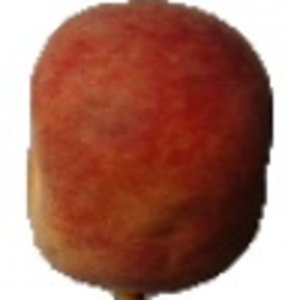pêssego: (25, 1, 274, 300)
